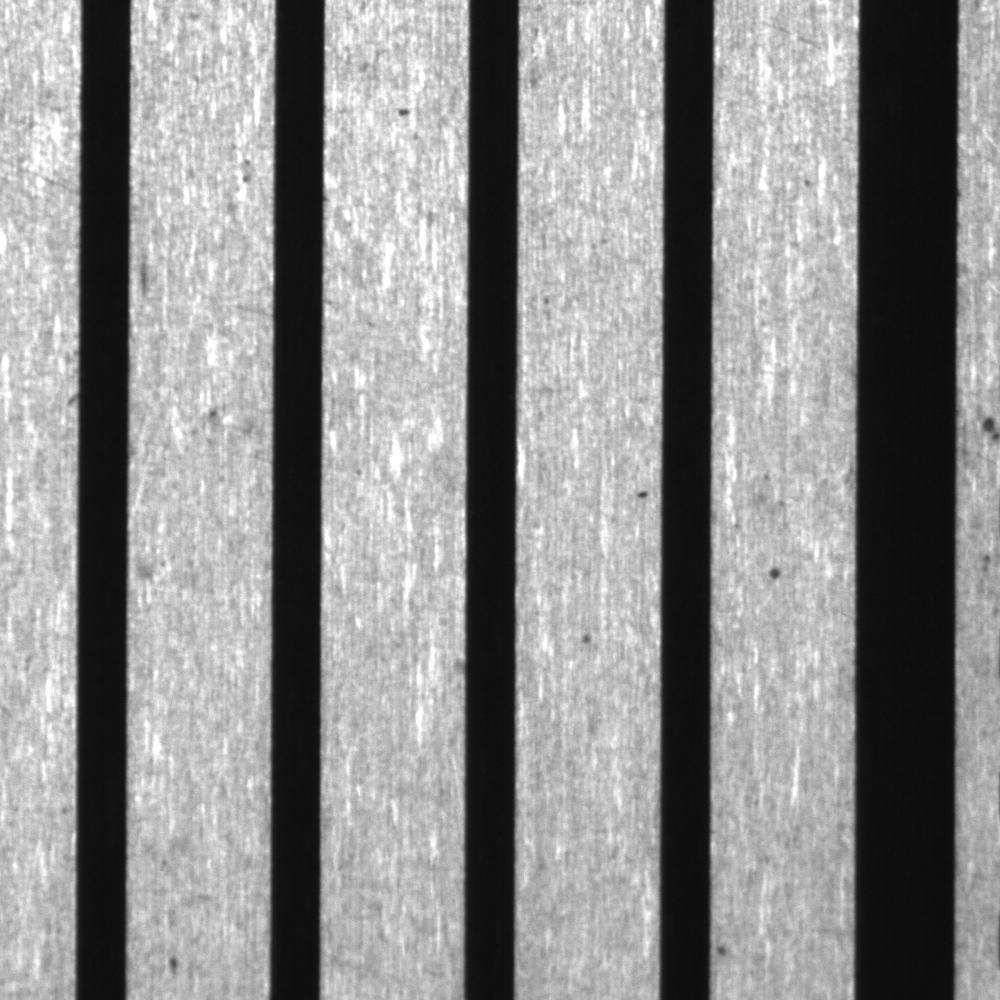Etching: (228, 134, 265, 199), (386, 85, 428, 130), (971, 391, 998, 457), (622, 473, 658, 514)
Pinhole: (565, 614, 611, 657), (710, 927, 748, 970), (159, 937, 192, 984), (759, 550, 794, 594), (197, 391, 231, 431), (531, 286, 566, 319), (795, 163, 824, 202), (346, 452, 371, 483)
Scar: (750, 1, 837, 59), (5, 152, 78, 208), (130, 235, 158, 313)
